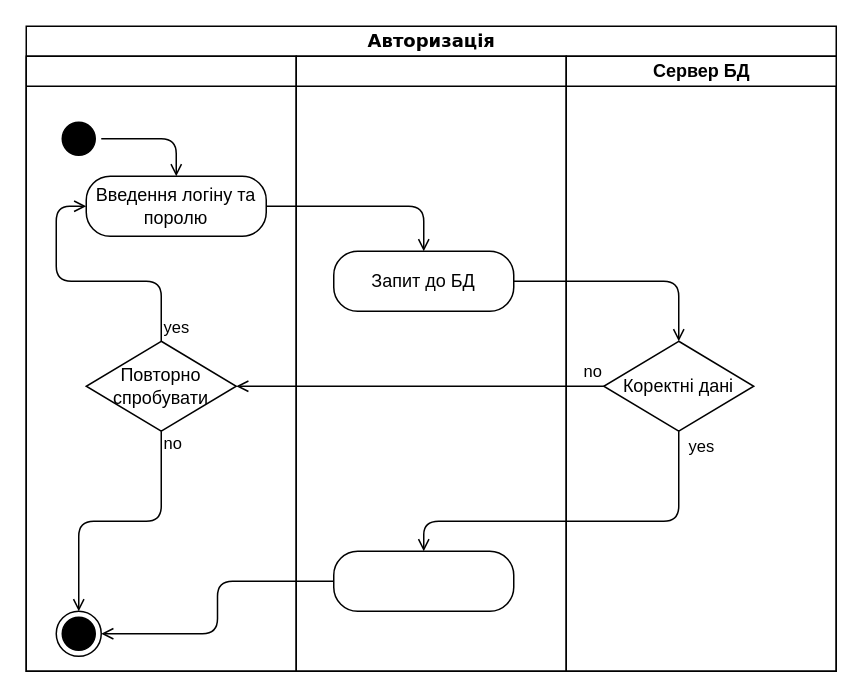
Image size: 863x698. Some labels were removed from this diagram. The shapes that lost their labels are listed below. From the top down, each one's box as (x1, y1, x2, y2) in pixels, then its label:
(25, 55, 296, 671): Клієнт
(295, 55, 566, 671): Веб-сервіс
(332, 550, 514, 611): Інформування користувача
